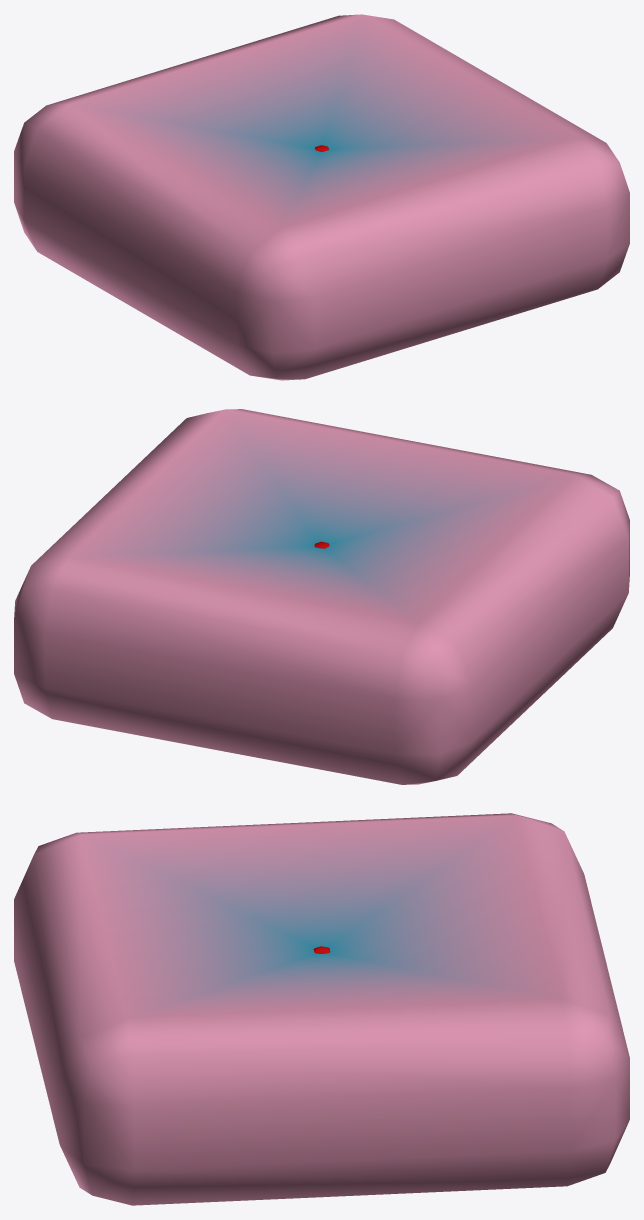
The model's file is CI_Decor_Cushion_Square.glb.
3 views of the same model, one above another, from view 1: azimuth 30°, elevation 25°; view 2: azimuth 150°, elevation 25°; view 3: azimuth 270°, elevation 25° (orthographic). The views are drawn at different scales.
Visible parts, largest first — view 1: CI_Decor_Cushion_Square; view 2: CI_Decor_Cushion_Square; view 3: CI_Decor_Cushion_Square.
Boxes of the visible parts, x1,y1,x2,y2 form: CI_Decor_Cushion_Square: (14, 14, 629, 380); CI_Decor_Cushion_Square: (14, 409, 629, 784); CI_Decor_Cushion_Square: (14, 813, 629, 1205).
Bounding box in the file's own units: 0.4834 × 0.16 × 0.4834.
